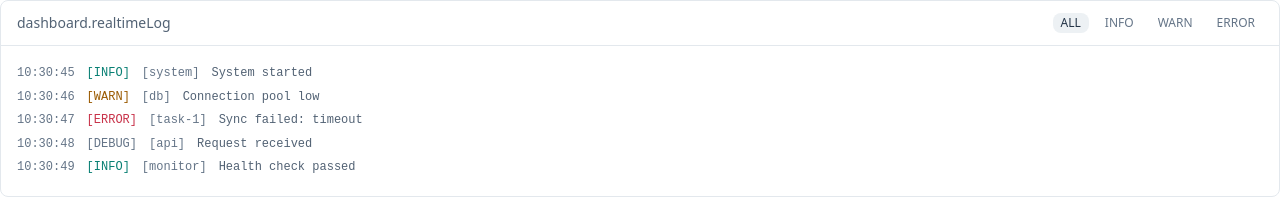
it: LogConsole › filter buttons › filters logs to WARN level only
Click the button "WARN".
click(1175, 23)  # box [1150,13,1200,33]
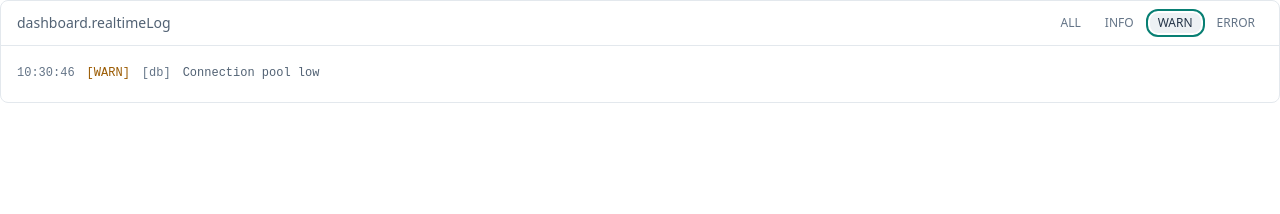
expect the text "Connection pool low" is shown: met, box [183,64,319,84]
expect the text "System started" is gone: met
